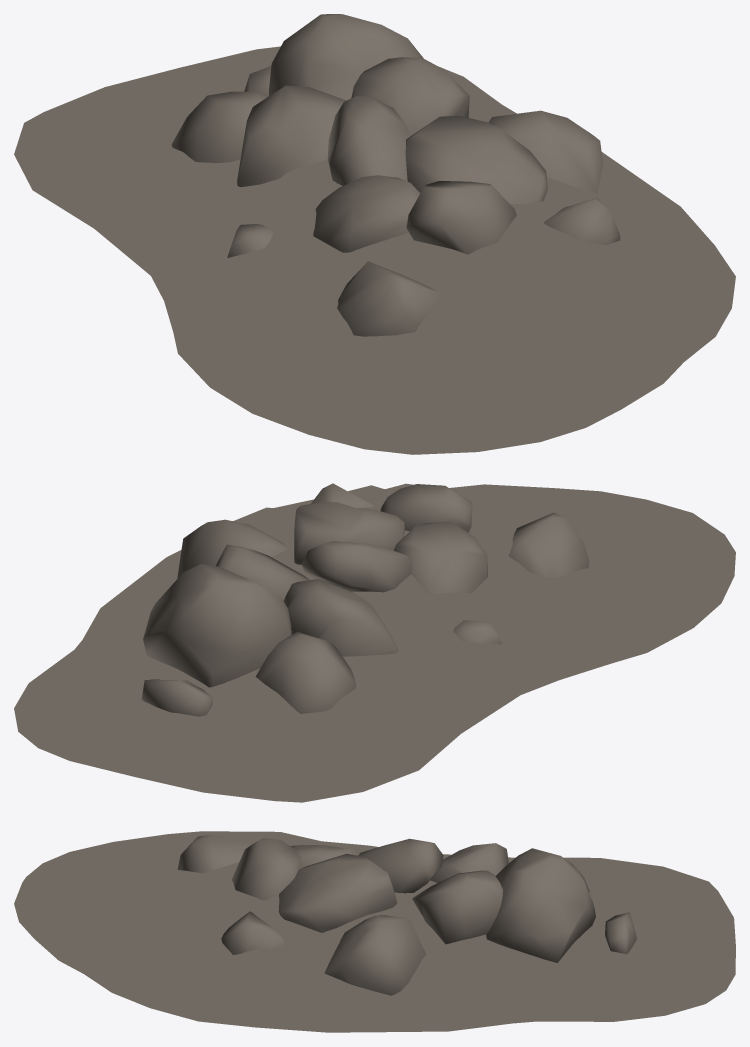
The model's file is SM_RockPile_001.fbx.
3 renders of one model, top to bottom at view 1: azimuth 30°, elevation 25°; view 2: azimuth 150°, elevation 25°; view 3: azimuth 270°, elevation 25°, orthographic. The views are drawn at different scales.
Visible parts, largest first — view 1: SM_RockPile_001; view 2: SM_RockPile_001; view 3: SM_RockPile_001.
Boxes of the visible parts, x1=… form: SM_RockPile_001: x1=14, y1=14, x2=735, y2=454; SM_RockPile_001: x1=14, y1=483, x2=735, y2=802; SM_RockPile_001: x1=14, y1=831, x2=735, y2=1032.
Bounding box in the file's own units: 429 × 653 × 138.
1 material, 1 textured.
